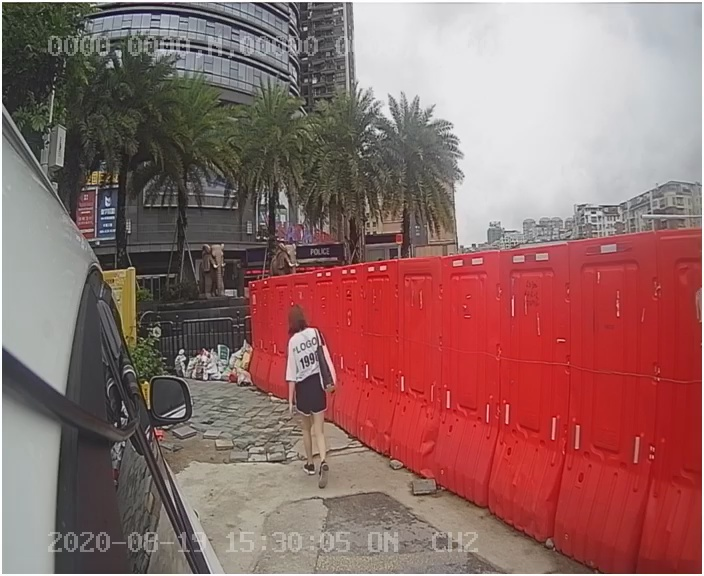person: (271, 301, 354, 492)
